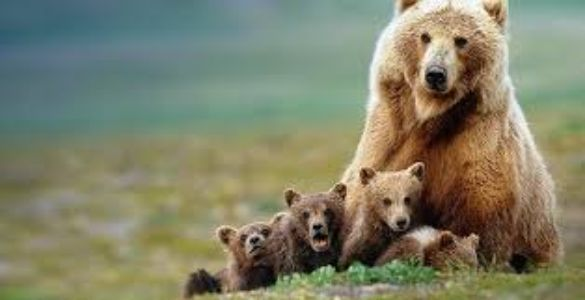bear: (378, 2, 550, 180), (212, 213, 287, 286), (286, 177, 346, 260), (351, 160, 422, 229), (432, 221, 498, 279)
